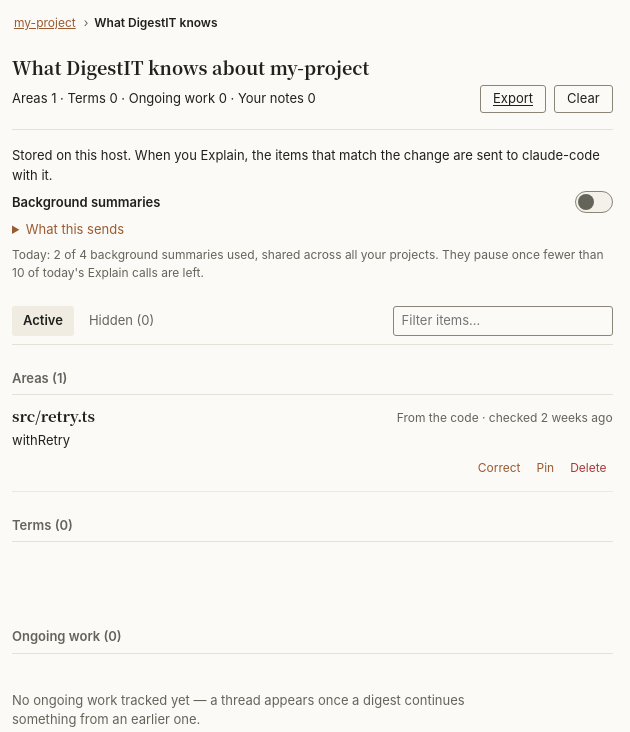
Scenario: MemoryPage › shows the existing unauthorized copy, not the generic pin error, on a 401
The width and height of the screenshot is (630, 732).
What coordinates should you click on to do the following:
click the button "Pin"
I would click on:
 (545, 468)
Its box is [530, 456, 560, 478].
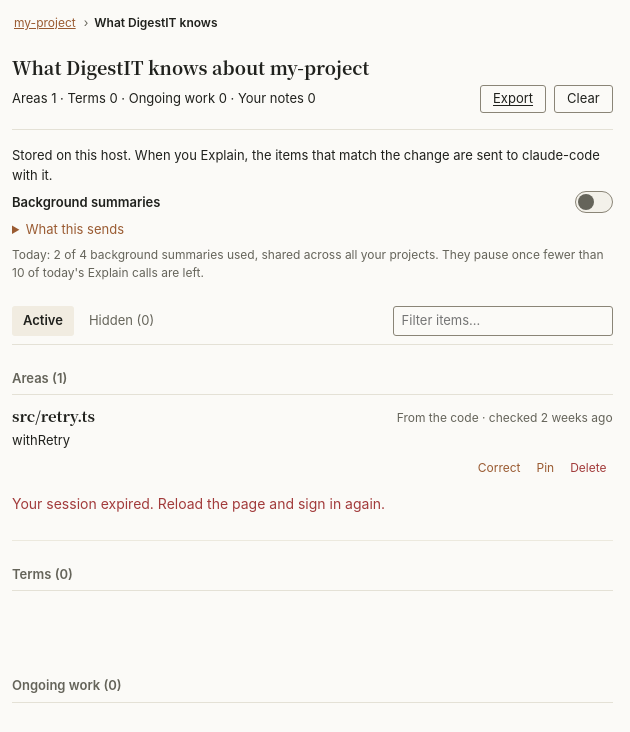
Result: the message "Your session expired. Reload the page and sign in again." is shown at [12, 494, 385, 512]
